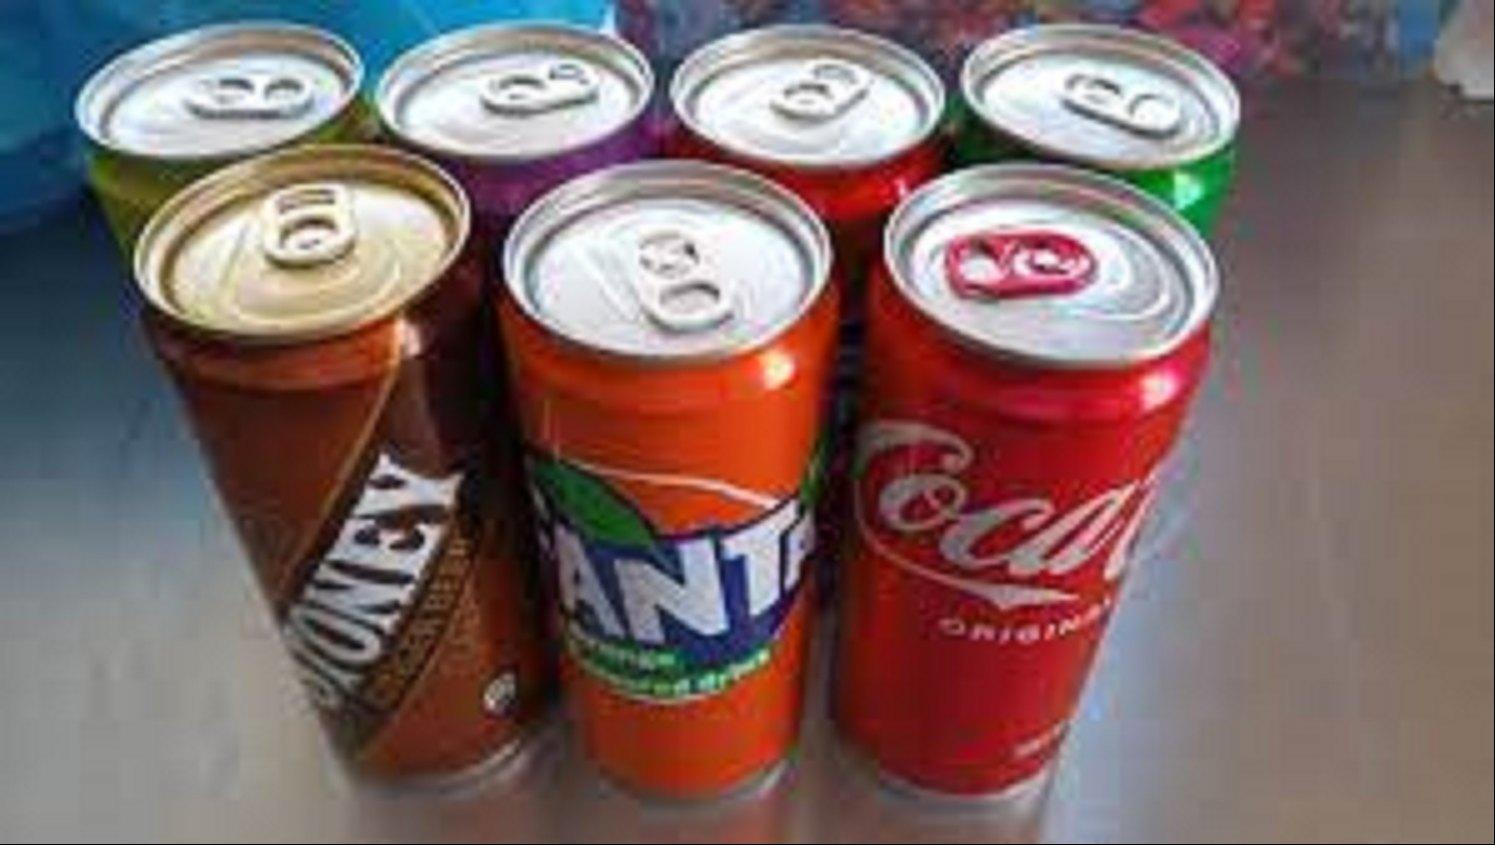can: (133, 141, 549, 798), (834, 162, 1220, 805), (494, 159, 841, 810), (75, 20, 380, 259), (667, 24, 946, 251), (952, 24, 1241, 238), (373, 6, 655, 224)
